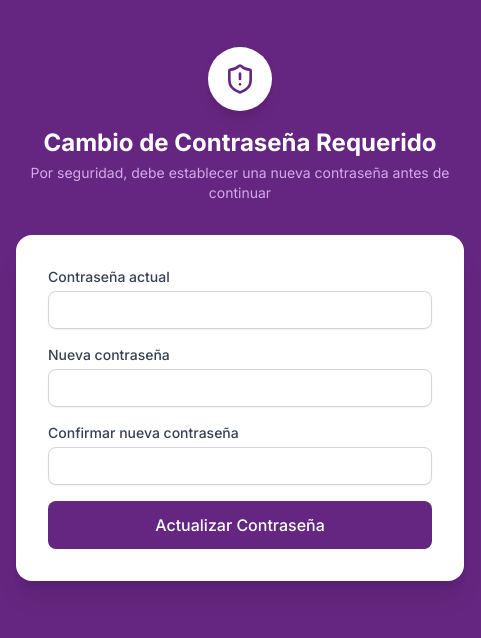
ChangePasswordPage › muestra mensaje genérico si el error no trae detalle
In the password field labelled "Contraseña actual": (240, 310) [48,291,432,329], type "actualMal"
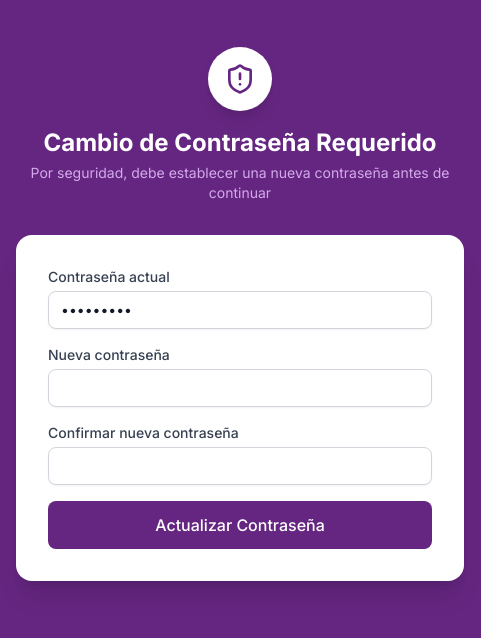
In the password field labelled "Nueva contraseña": (240, 388) [48,369,432,407], type "Nueva1234!"
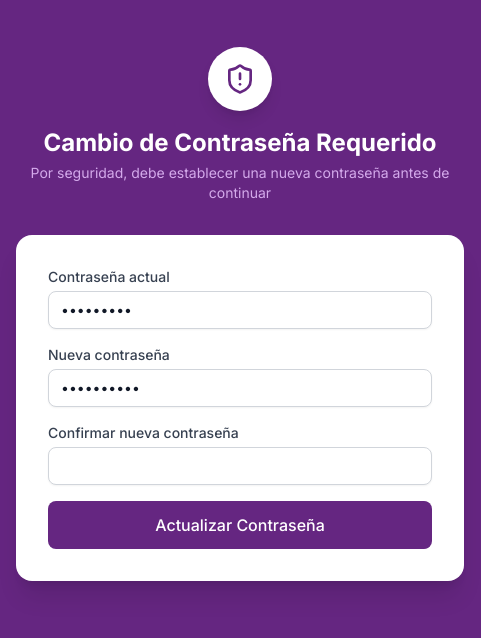
In the password field labelled "Confirmar nueva contraseña": (240, 466) [48,447,432,485], type "Nueva1234!"
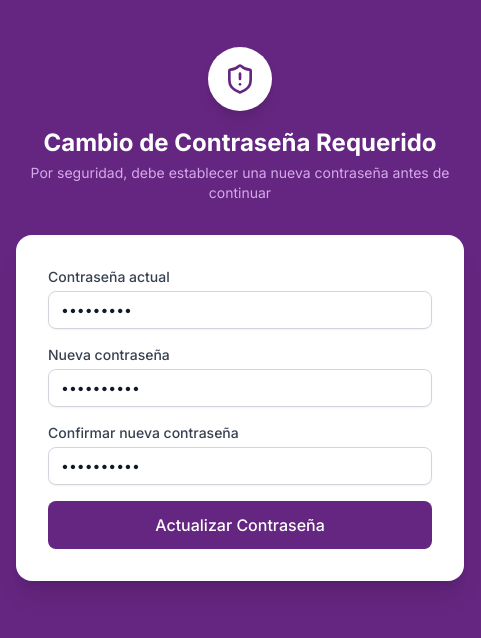
Click the button "Actualizar Contraseña": (240, 525) [48,501,432,549]
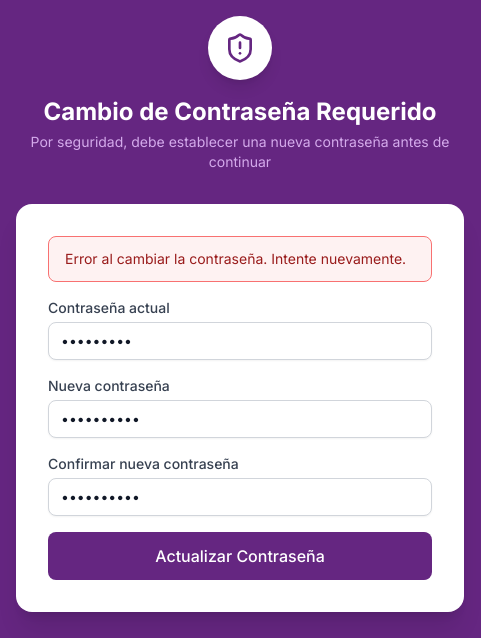
Check: the text "Error al cambiar la contraseña. Intente nuevamente." is shown, box [48,236,432,282]
